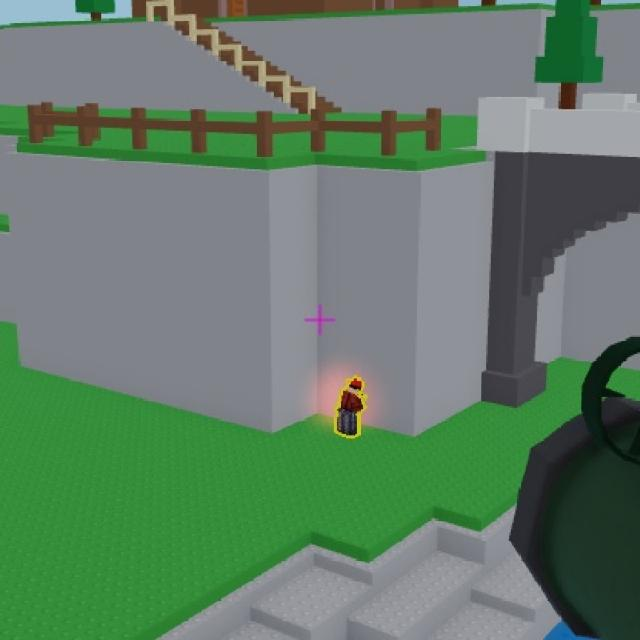player: (340, 373, 366, 443)
